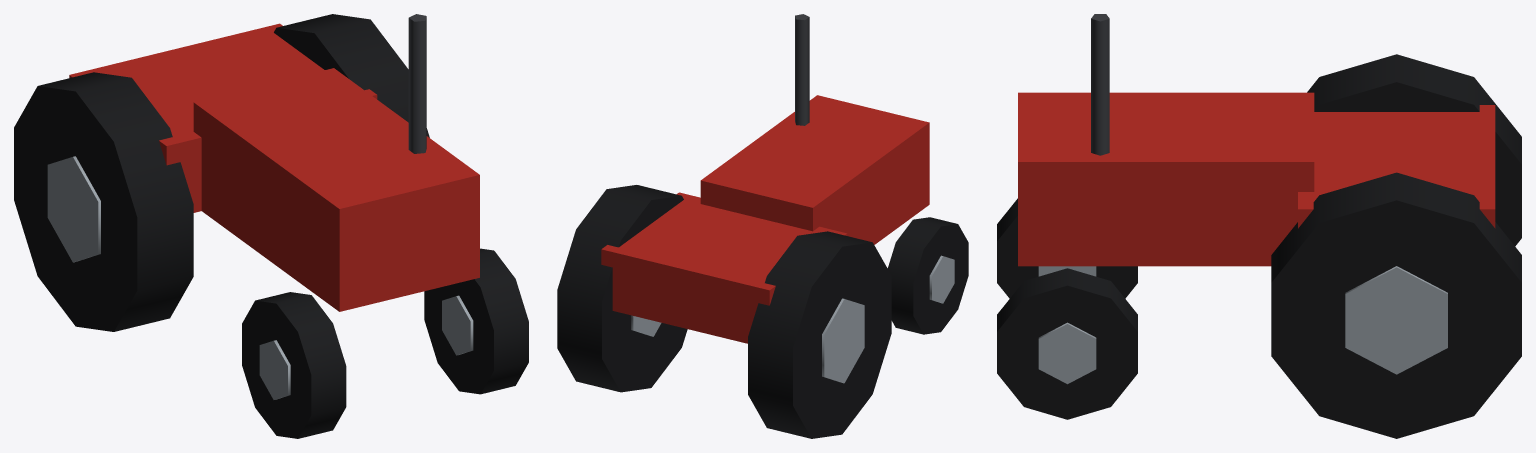
The model's file is veh_ground_tractor_a05.glb.
3 views of the same model, side by side, from view 1: azimuth 30°, elevation 25°; view 2: azimuth 150°, elevation 25°; view 3: azimuth 270°, elevation 25° (orthographic). The views are drawn at different scales.
Parts seen in each view (by area): view 1: body, wheel_0, front_wheel_0, front_wheel_1, wheel_1; view 2: body, wheel_0, wheel_1, front_wheel_0; view 3: body, wheel_1, front_wheel_1, wheel_0, front_wheel_0.
Boxes of the visible parts, <box> form: body: <box>69,14,479,311</box>; wheel_0: <box>14,72,193,331</box>; front_wheel_0: <box>242,292,346,438</box>; front_wheel_1: <box>424,248,528,394</box>; wheel_1: <box>274,14,429,137</box>; body: <box>601,14,929,343</box>; wheel_0: <box>748,231,891,438</box>; wheel_1: <box>557,185,687,392</box>; front_wheel_0: <box>887,217,968,334</box>; body: <box>1018,14,1495,266</box>; wheel_1: <box>1271,172,1521,438</box>; front_wheel_1: <box>997,268,1137,419</box>; wheel_0: <box>1307,54,1521,246</box>; front_wheel_0: <box>997,198,1137,298</box>.
Size of what is drawn, in the model's own units: 2.14 by 2.5 by 3.19.
